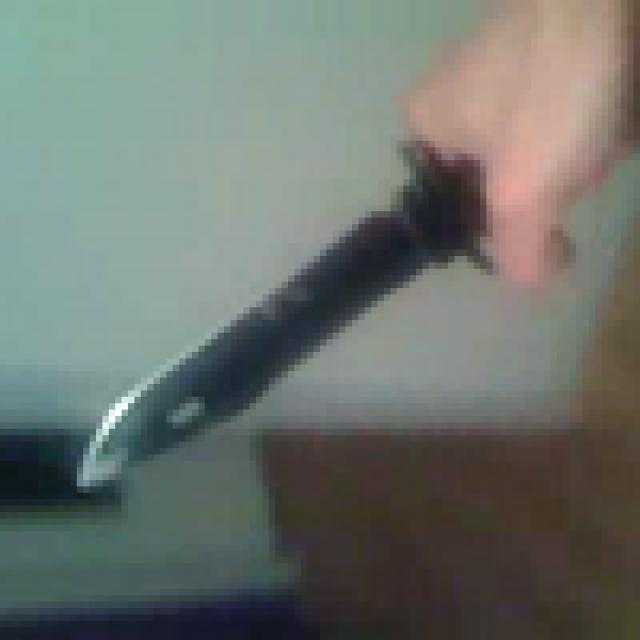Knife_Handle: (77, 3, 640, 490)
